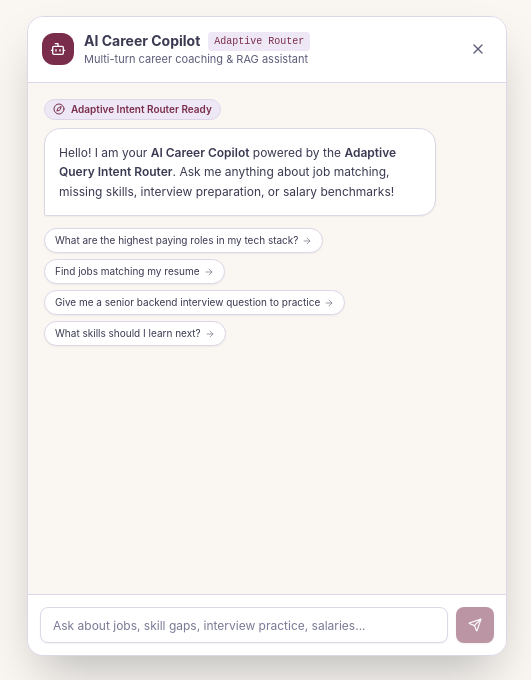
Scenario: CopilotChatDrawer Component › renders router decision badges including backend, low confidence, and fallback used
In the field with placeholder "Ask about jobs, skill gaps, interview practice, salaries...": (244, 625) [40,607,448,643], type "Obscure query requiring fallback"
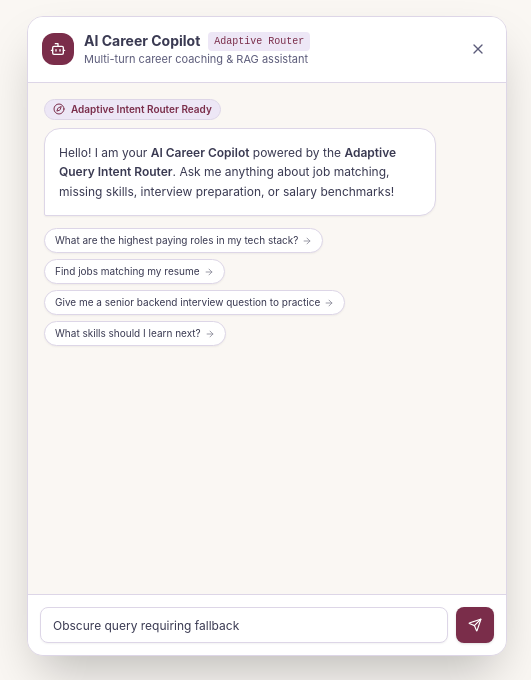
Submit the form with placeholder "ask about jobs", box [40,607,494,643]
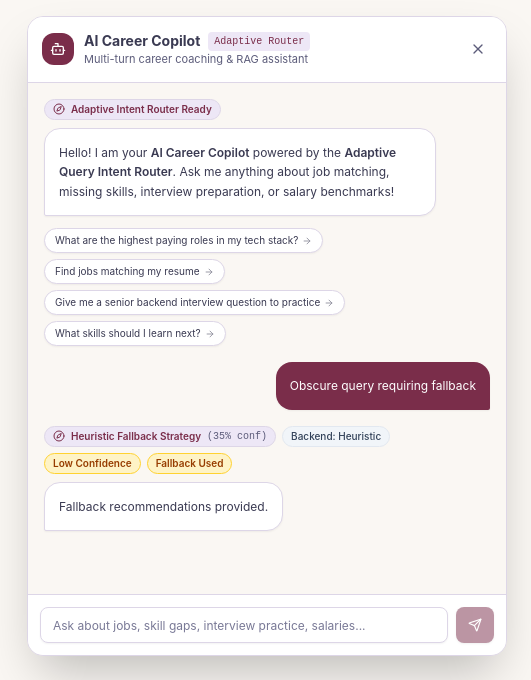
Expected: the text "Backend: heuristic" is shown, [282,426,390,446]
Expected: the text "Low Confidence" is shown, [44,452,141,474]
Expected: the text "Fallback Used" is shown, [147,452,232,474]
